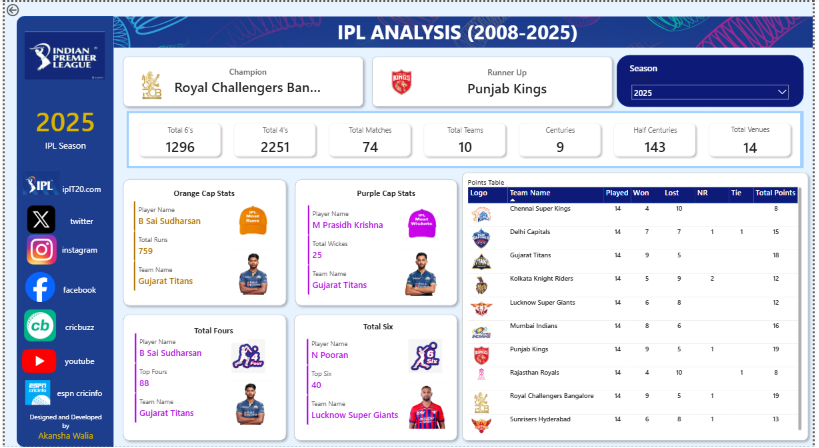

Layout of this report page (visuals, bound fields, positions):
{"tool":"powerbi","page":{"name":"Page 1","canvas":[2000,1100],"ordinal":0},"visuals":[{"type":"shape","box":[30.8,33.8,240,1066.2],"z":0},{"type":"shape","box":[1514,131.1,462.6,128.6],"z":1000},{"type":"shape","box":[1120.6,410.7,878.2,685.2],"z":2000},{"type":"shape","box":[705,761.9,425.5,334],"z":3000},{"type":"shape","box":[282,761.9,425.5,334],"z":4000},{"type":"shape","box":[282,428,425.5,334],"z":5000},{"type":"shape","box":[898,123.7,616,146],"z":6000},{"type":"cardVisual","fields":{"Data":["ipl_matches_data.Runner Up"]},"box":[999.4,143.5,487.3,108.8],"z":7000},{"type":"shape","box":[282,123.7,616,146],"z":8000},{"type":"image","box":[270.8,28.8,1729.2,89.1],"z":9000},{"type":"textbox","box":[802.7,33.8,638.2,89.1],"z":10000},{"type":"slicer","title":"Season","fields":{"Values":["ipl_matches_data.season"]},"box":[1541.2,148.4,408.2,96.5],"z":11000},{"type":"cardVisual","fields":{"Data":["ipl_matches_data.Season Winner"]},"box":[390.9,141,422,108.8],"z":12000},{"type":"cardVisual","fields":{"Data":["ipl_matches_data.Season Winner Logo"]},"box":[304.3,150.9,118.7,108.8],"z":13000},{"type":"cardVisual","fields":{"Data":["ipl_matches_data.Runner Up Team Logo"]},"box":[922.7,143.5,118.7,108.8],"z":14000},{"type":"cardVisual","fields":{"Data":["ipl_matches_data.Total 6's","ipl_matches_data.Total 4's","ipl_matches_data.Total Matches","ipl_matches_data.Total Teams","ipl_matches_data.Centuries","ipl_matches_data.Half Centuries","ipl_matches_data.Total Venues"]},"box":[301.8,269.6,1674.8,141],"z":15000},{"type":"cardVisual","fields":{"Data":["ipl_matches_data.Orange Cap Holder","ipl_matches_data.Orange Cap Runs","ipl_matches_data.Orange Cap Team Name"]},"box":[301.8,475,237.5,257.3],"z":16000},{"type":"textbox","box":[361.2,455.2,264.7,47],"z":17000},{"type":"cardVisual","fields":{"Data":["ipl_matches_data.Orange Cap Image"]},"box":[541.8,479.9,148.4,264.7],"z":18000},{"type":"image","box":[546.7,502.2,136.1,76.7],"z":19000},{"type":"shape","box":[707.5,428,423,334],"z":20000},{"type":"cardVisual","fields":{"Data":["ipl_matches_data.Purple Cap Holder","ipl_matches_data.Purple Cap Wicket Count","ipl_matches_data.Purple Cap Team"]},"box":[732.3,484.9,237.5,257.3],"z":21000},{"type":"cardVisual","fields":{"Data":["ipl_matches_data.Purple Cap Image"]},"box":[957.4,479.9,148.4,264.7],"z":22000},{"type":"image","box":[964.8,509.6,136.1,76.7],"z":23000},{"type":"cardVisual","fields":{"Data":["ipl_matches_data.Top Four Players Name","ipl_matches_data.Top Fours Count","ipl_matches_data.Top Fours Players Team Name"]},"box":[304.3,801.5,237.5,257.3],"z":24000},{"type":"textbox","box":[801.5,455.2,284.5,47],"z":25000},{"type":"textbox","box":[423,784.2,168.2,49.5],"z":26000},{"type":"cardVisual","fields":{"Data":["ipl_matches_data.Orange Cap Image"]},"box":[534.3,808.9,148.4,254.8],"z":27000},{"type":"cardVisual","fields":{"Data":["ipl_matches_data.Top Six Players Name","ipl_matches_data.Top Six Count","ipl_matches_data.Top Six Players Team Name"]},"box":[729.8,806.5,296.9,257.3],"z":28000},{"type":"cardVisual","fields":{"Data":["ipl_matches_data.Purple Cap Image"]},"box":[969.7,808.9,148.4,264.7],"z":29000},{"type":"textbox","box":[747.1,784.2,353.8,49.5],"z":30000},{"type":"image","box":[556.6,833.7,91.5,84.1],"z":31000},{"type":"textbox","box":[433,794.2,168.2,49.5],"z":32000},{"type":"image","box":[994.5,833.7,91.5,84.1],"z":33000},{"type":"tableEx","fields":{"Values":["teams_data.image_url","teams_data.team_name","ipl_matches_data.Matches Played","ipl_matches_data.Matches Won","ipl_matches_data.Lost Matches","ipl_matches_data.No Result Played","ipl_matches_data.Tie Played","ipl_matches_data.Total Points"]},"box":[1140.4,452.7,836.2,620.9],"z":34000},{"type":"actionButton","box":[0,0,100,40],"z":35000},{"type":"textbox","box":[1140.4,428,163.3,47],"z":36000},{"type":"actionButton","box":[128.6,425.5,123.7,74.2],"z":37000},{"type":"image","box":[44.5,398.3,91.5,99],"z":38000},{"type":"image","box":[49.5,39.6,197.9,185.5],"z":39000},{"type":"cardVisual","fields":{"Data":["ipl_matches_data.IPL Season"]},"box":[42.1,197.9,217.7,220.2],"z":40000},{"type":"image","box":[37.1,462.6,106.4,150.9],"z":41000},{"type":"actionButton","box":[128.6,504.7,123.7,74.2],"z":42000},{"type":"image","box":[54.4,556.6,74.2,111.3],"z":43000},{"type":"image","box":[47,667.9,81.6,74.2],"z":44000},{"type":"image","box":[47,739.7,81.6,121.2],"z":45000},{"type":"image","box":[42.1,846,86.6,84.1],"z":46000},{"type":"actionButton","box":[123.7,569,123.7,86.6],"z":47000},{"type":"actionButton","box":[123.7,667.9,123.7,86.6],"z":48000},{"type":"actionButton","box":[123.7,759.5,123.7,86.6],"z":49000},{"type":"image","box":[19.8,898,123.7,136.1],"z":50000},{"type":"actionButton","box":[123.7,846,123.7,84.1],"z":51000},{"type":"actionButton","box":[123.7,925.2,123.7,84.1],"z":52000},{"type":"textbox","box":[49.5,1009.3,202.9,86.6],"z":53000}]}

Visuals, with their boxes in screenshot pixels (x1, y1, x2, y2), scaled from the page's 2000x1100 canvas onto the 819x448 screenshot:
shape: 13/14/111/447
shape: 620/53/809/106
shape: 459/167/818/446
shape: 289/310/463/446
shape: 115/310/290/446
shape: 115/174/290/310
shape: 368/50/620/110
cardVisual - ipl_matches_data.Runner Up: 409/58/609/103
shape: 115/50/368/110
image: 111/12/818/48
textbox: 329/14/590/50
"Season" slicer: 631/60/798/100
cardVisual - ipl_matches_data.Season Winner: 160/57/333/102
cardVisual - ipl_matches_data.Season Winner Logo: 125/61/173/106
cardVisual - ipl_matches_data.Runner Up Team Logo: 378/58/426/103
cardVisual - ipl_matches_data.Total 6's x ipl_matches_data.Total 4's: 124/110/809/167
cardVisual - ipl_matches_data.Orange Cap Holder x ipl_matches_data.Orange Cap Runs: 124/193/221/298
textbox: 148/185/256/205
cardVisual - ipl_matches_data.Orange Cap Image: 222/195/283/303
image: 224/205/280/236
shape: 290/174/463/310
cardVisual - ipl_matches_data.Purple Cap Holder x ipl_matches_data.Purple Cap Wicket Count: 300/197/397/302
cardVisual - ipl_matches_data.Purple Cap Image: 392/195/453/303
image: 395/208/451/239
cardVisual - ipl_matches_data.Top Four Players Name x ipl_matches_data.Top Fours Count: 125/326/222/431
textbox: 328/185/445/205
textbox: 173/319/242/340
cardVisual - ipl_matches_data.Orange Cap Image: 219/329/280/433
cardVisual - ipl_matches_data.Top Six Players Name x ipl_matches_data.Top Six Count: 299/328/420/433
cardVisual - ipl_matches_data.Purple Cap Image: 397/329/458/437
textbox: 306/319/451/340
image: 228/340/265/374
textbox: 177/323/246/344
image: 407/340/445/374
tableEx - teams_data.image_url x teams_data.team_name: 467/184/809/437
actionButton: 0/0/41/16
textbox: 467/174/534/193
actionButton: 53/173/103/204
image: 18/162/56/203
image: 20/16/101/92
cardVisual - ipl_matches_data.IPL Season: 17/81/106/170
image: 15/188/59/250
actionButton: 53/206/103/236
image: 22/227/53/272
image: 19/272/53/302
image: 19/301/53/351
image: 17/345/53/379
actionButton: 51/232/101/267
actionButton: 51/272/101/307
actionButton: 51/309/101/345
image: 8/366/59/421
actionButton: 51/345/101/379
actionButton: 51/377/101/411
textbox: 20/411/103/446
